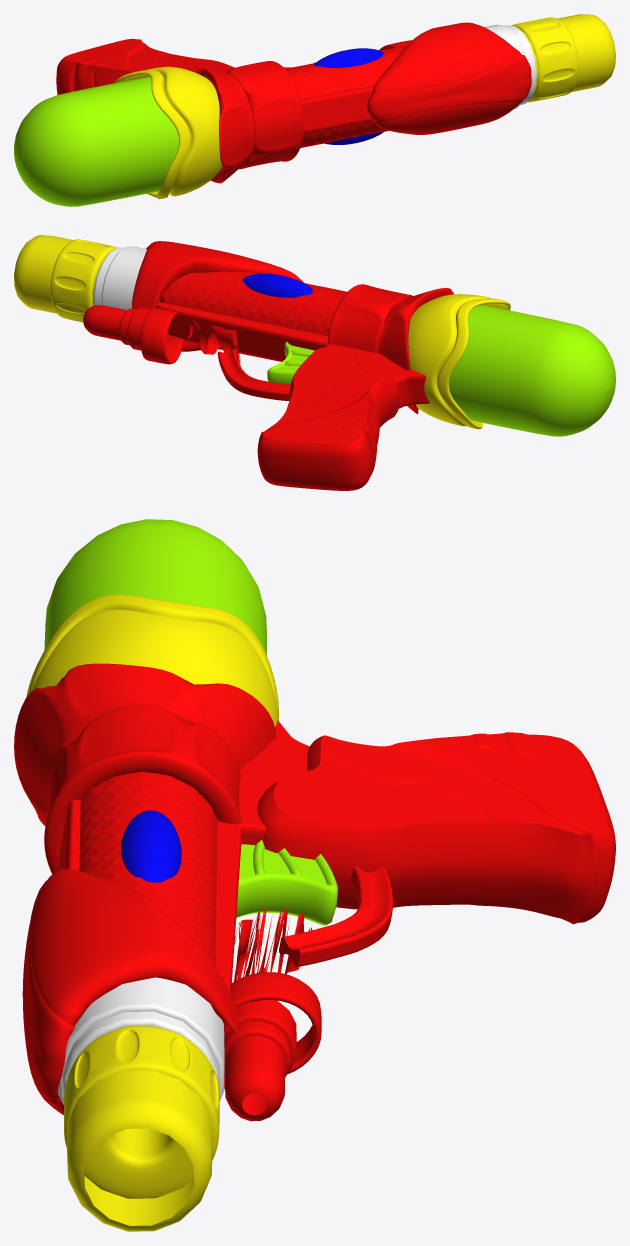
The model's file is toy_gun.glb.
The picture shows the model from 3 angles, top to bottom: view 1: azimuth 30°, elevation 25°; view 2: azimuth 150°, elevation 25°; view 3: azimuth 270°, elevation 25°; orthographic projection. The views are drawn at different scales.
Parts seen in each view (by area): view 1: ChamferCyl001, Plane013, Tube002, Tube001, Plane012, Tube003, Tube004, Tube006, Object001_05 - Defaultas_0, Line002, Sphere001, Line008; view 2: ChamferCyl001, Plane012, Tube003, Tube002, Line002, Plane013, Tube001, Tube006, Object001_05 - Defaultas_0, Line008, Tube004, Line007 (+5 smaller); view 3: Plane012, Plane013, Tube002, Tube004, ChamferCyl001, Tube001, Object001_05 - Defaultas_0, Tube003, Tube006, Line002, Line008, Line007 (+5 smaller).
Part boxes in pixels (bbox=[...]): ChamferCyl001: bbox=[14, 77, 178, 206]; Plane013: bbox=[367, 22, 531, 134]; Tube002: bbox=[114, 66, 222, 199]; Tube001: bbox=[222, 61, 303, 169]; Plane012: bbox=[56, 38, 234, 94]; Tube003: bbox=[285, 45, 407, 147]; Tube004: bbox=[184, 67, 254, 183]; Tube006: bbox=[511, 17, 578, 102]; Object001_05 - Defaultas_0: bbox=[517, 14, 615, 95]; Line002: bbox=[300, 85, 373, 133]; Sphere001: bbox=[314, 48, 383, 144]; Line008: bbox=[484, 24, 536, 108]; ChamferCyl001: bbox=[449, 305, 615, 436]; Plane012: bbox=[257, 347, 399, 490]; Tube003: bbox=[160, 271, 347, 361]; Tube002: bbox=[408, 294, 510, 429]; Line002: bbox=[155, 298, 429, 408]; Plane013: bbox=[132, 241, 303, 351]; Tube001: bbox=[327, 284, 412, 352]; Tube006: bbox=[50, 239, 116, 322]; Object001_05 - Defaultas_0: bbox=[14, 235, 113, 313]; Line008: bbox=[93, 246, 146, 310]; Tube004: bbox=[377, 288, 453, 413]; Line007: bbox=[83, 305, 149, 350]; Plane012: bbox=[257, 732, 615, 924]; Plane013: bbox=[22, 869, 238, 1115]; Tube002: bbox=[26, 594, 279, 726]; Tube004: bbox=[14, 663, 275, 826]; ChamferCyl001: bbox=[44, 519, 266, 654]; Tube001: bbox=[44, 706, 242, 874]; Object001_05 - Defaultas_0: bbox=[67, 1026, 212, 1231]; Tube003: bbox=[79, 771, 217, 965]; Tube006: bbox=[64, 1025, 219, 1198]; Line002: bbox=[59, 720, 309, 1020]; Line008: bbox=[58, 977, 224, 1104]; Line007: bbox=[222, 1000, 296, 1121].
Size of the model in its own units: 17.18 by 3.41 by 7.93.
